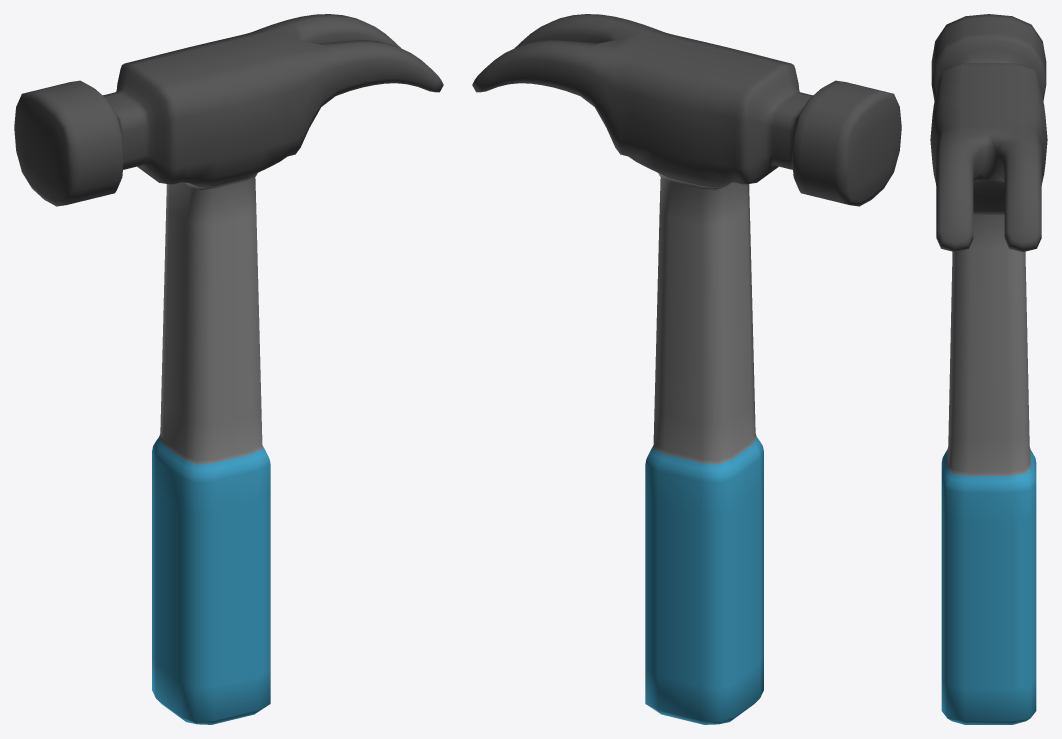
3 renders of one model, left to right at view 1: azimuth 30°, elevation 25°; view 2: azimuth 150°, elevation 25°; view 3: azimuth 270°, elevation 25°, orthographic. The views are drawn at different scales.
Visible parts, largest first — view 1: instrumento_martillo; view 2: instrumento_martillo; view 3: instrumento_martillo.
Boxes of the visible parts, x1,y1,x2,y2 form: instrumento_martillo: (14, 14, 443, 724); instrumento_martillo: (472, 14, 901, 724); instrumento_martillo: (930, 14, 1047, 724).
Size of the model in its own units: 0.1401 by 0.2268 by 0.039.
